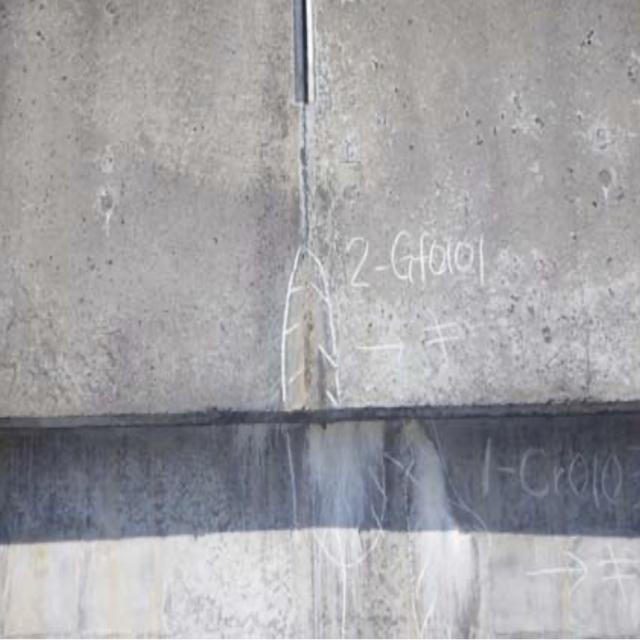freelime: (292, 418, 480, 640)
